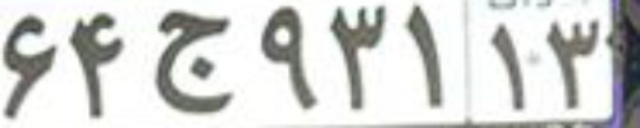1: (406, 6, 451, 108), (487, 22, 526, 109)
3: (331, 6, 383, 111), (546, 20, 601, 111)
4: (66, 14, 121, 118)
6: (2, 14, 55, 118)
jim: (153, 13, 238, 113)
non: (259, 7, 319, 107)
